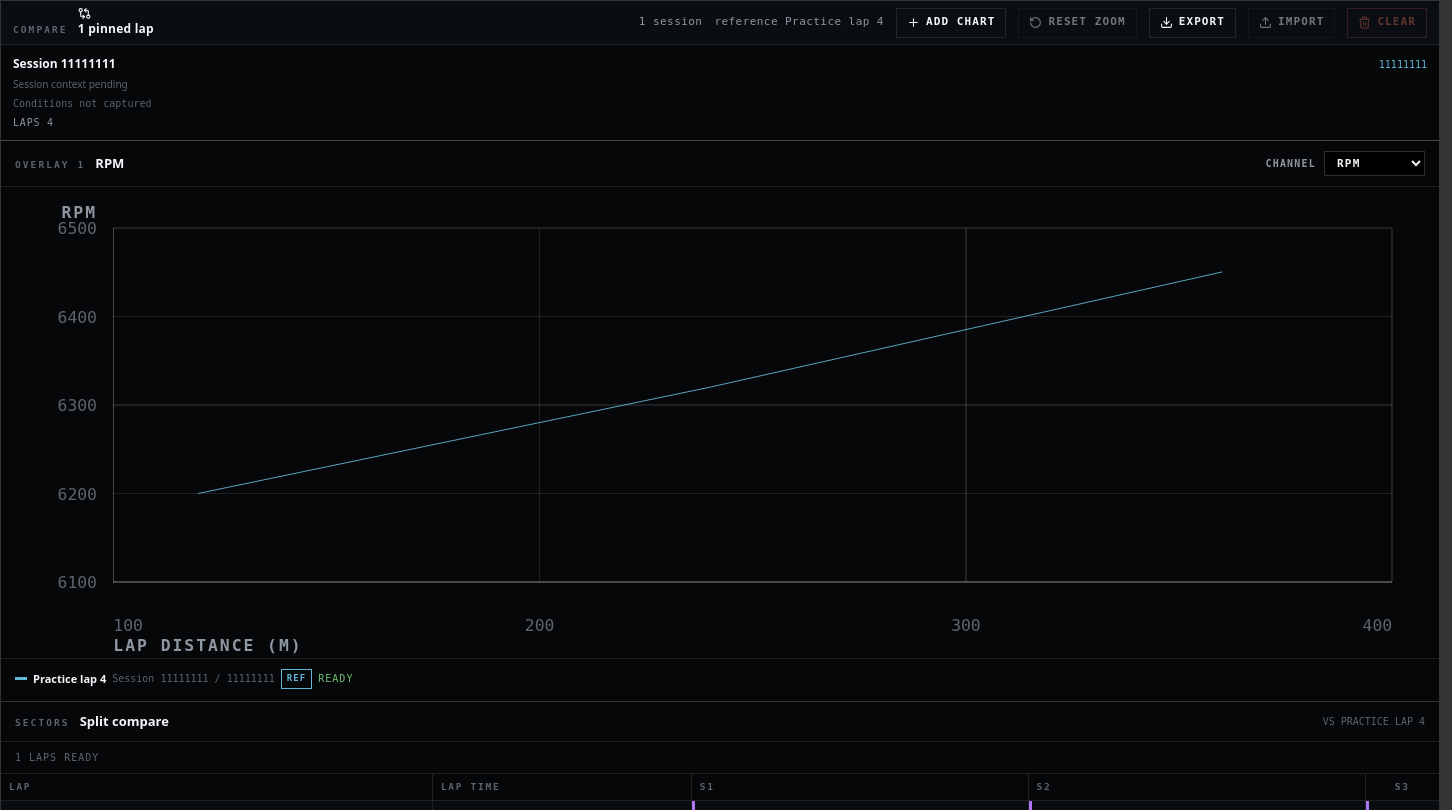
CompareWorkspace › uses basket panel channel selection and forwards selector changes
Expected: the picture named "Lap overlay chart for RPM" is shown, [15,195,1425,654]
Select "Throttle" in the dropdown labelled "Channel": {"x": 1374, "y": 164} [1324,151,1425,176]
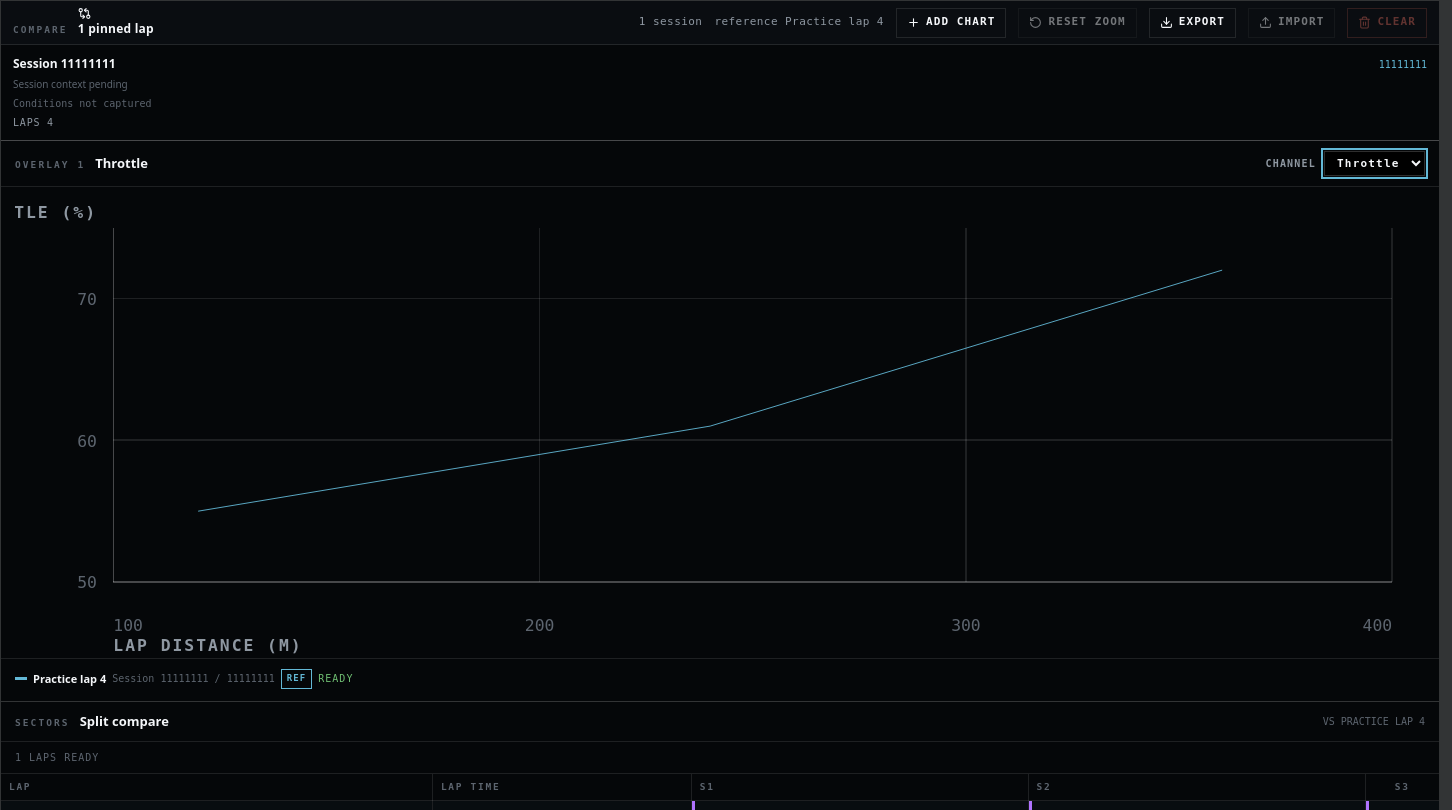
Expected: the picture named "Lap overlay chart for Throttle" is shown, [15,195,1425,654]
